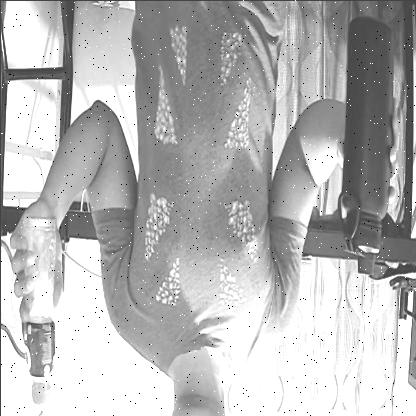Plastic Bottle: (18, 206, 62, 409)
